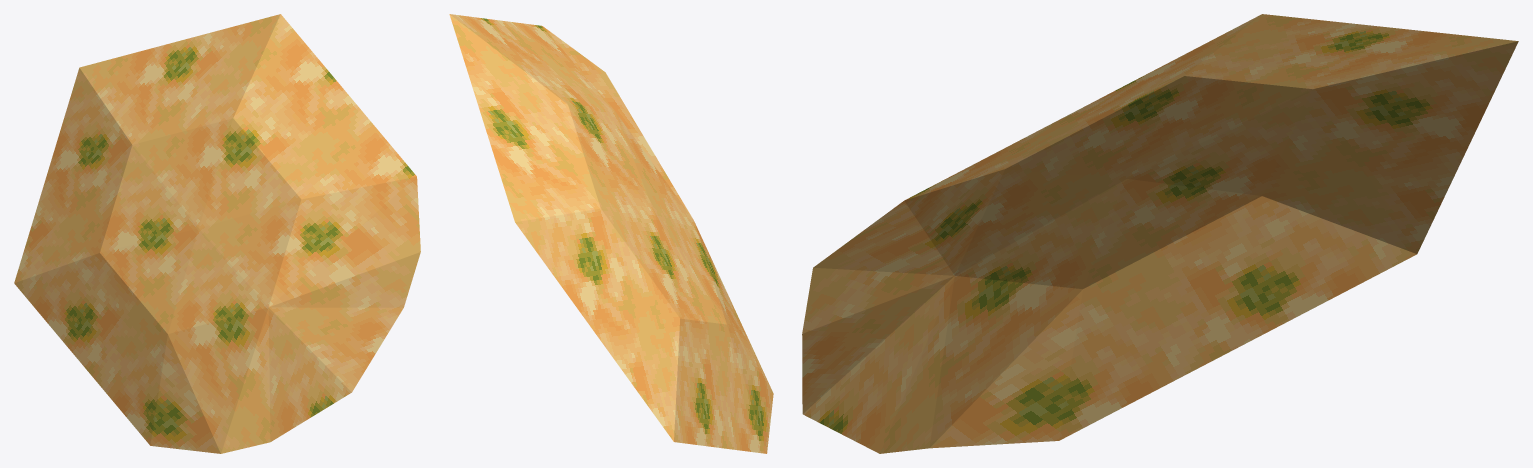
Rendered from 1363item2753r.gltf.
3 renders of one model, left to right at view 1: azimuth 30°, elevation 25°; view 2: azimuth 150°, elevation 25°; view 3: azimuth 270°, elevation 25°, orthographic. The views are drawn at different scales.
Parts seen in each view (by area): view 1: 1363item2753r; view 2: 1363item2753r; view 3: 1363item2753r.
Part boxes in pixels (x1=…): 1363item2753r: x1=14, y1=14, x2=420, y2=453; 1363item2753r: x1=449, y1=14, x2=773, y2=453; 1363item2753r: x1=802, y1=14, x2=1518, y2=453.
Size of the model in its own units: 0.2357 by 0.3045 by 0.3379.
1 material, 1 textured.
